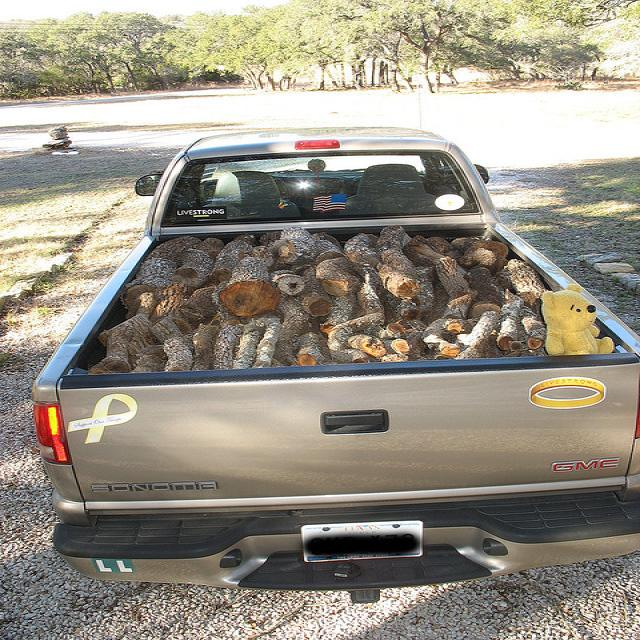Vehicle: (27, 123, 640, 609)
